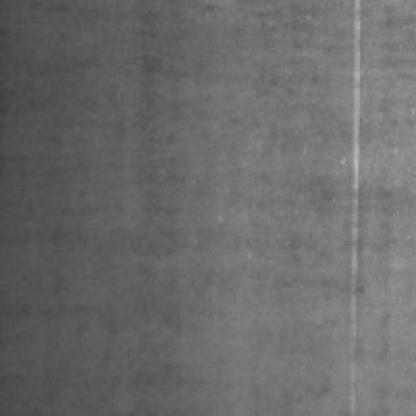scratches: (341, 0, 366, 383)
